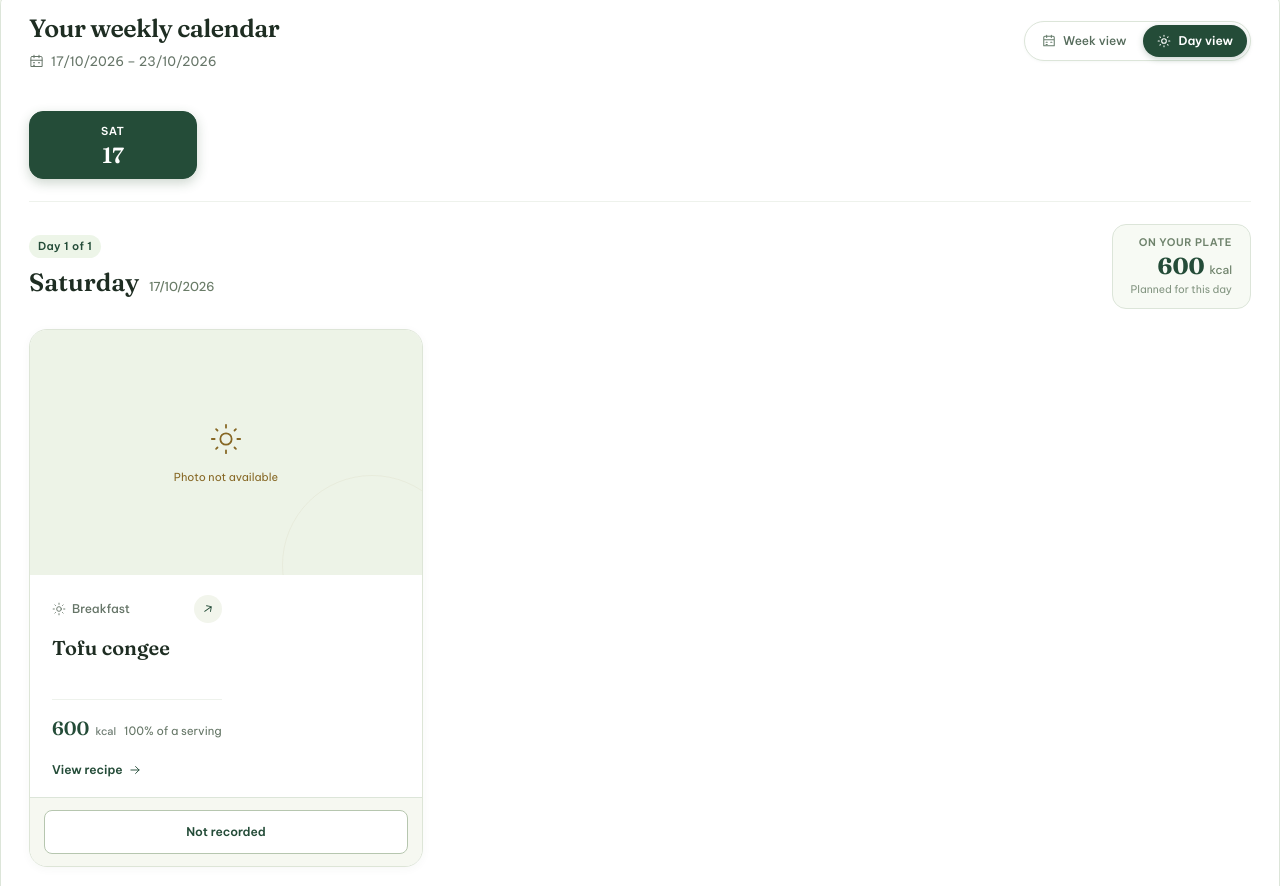
Test: toggles a day meal between not recorded and followed without opening meal details
What coordinates should you click on to do the following:
click the button with class "wm-follow-button"
I would click on:
 (226, 832)
Its box is [44,810,408,854].
(page scrolled)
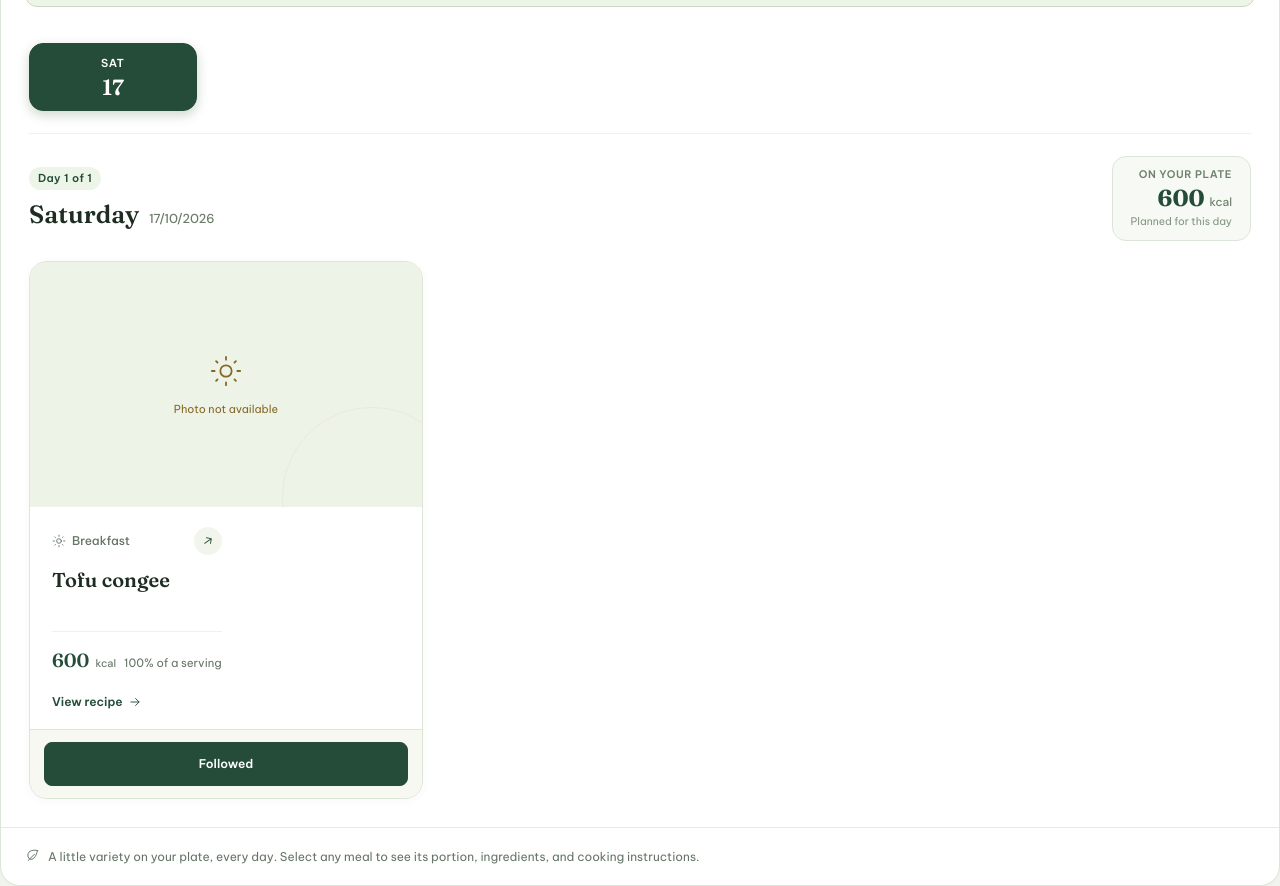
Expected: the button with class "wm-follow-button" reads "Followed"
What coordinates should you click on to do the following:
click the button with class "wm-follow-button"
I would click on:
 (226, 764)
Its box is [44,742,408,786].
(page scrolled)
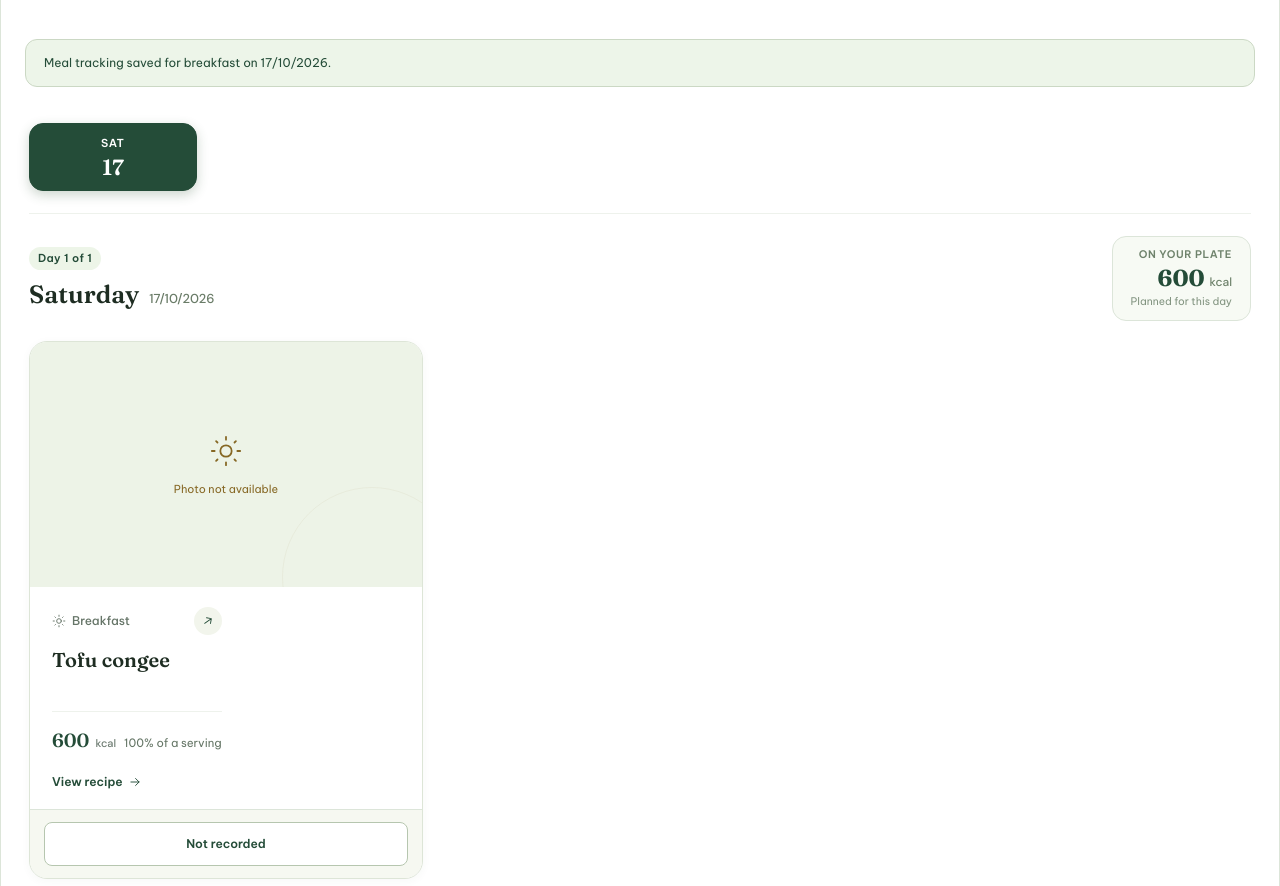
Expected: the button with class "wm-follow-button" reads "Not recorded", [44,822,408,866]
